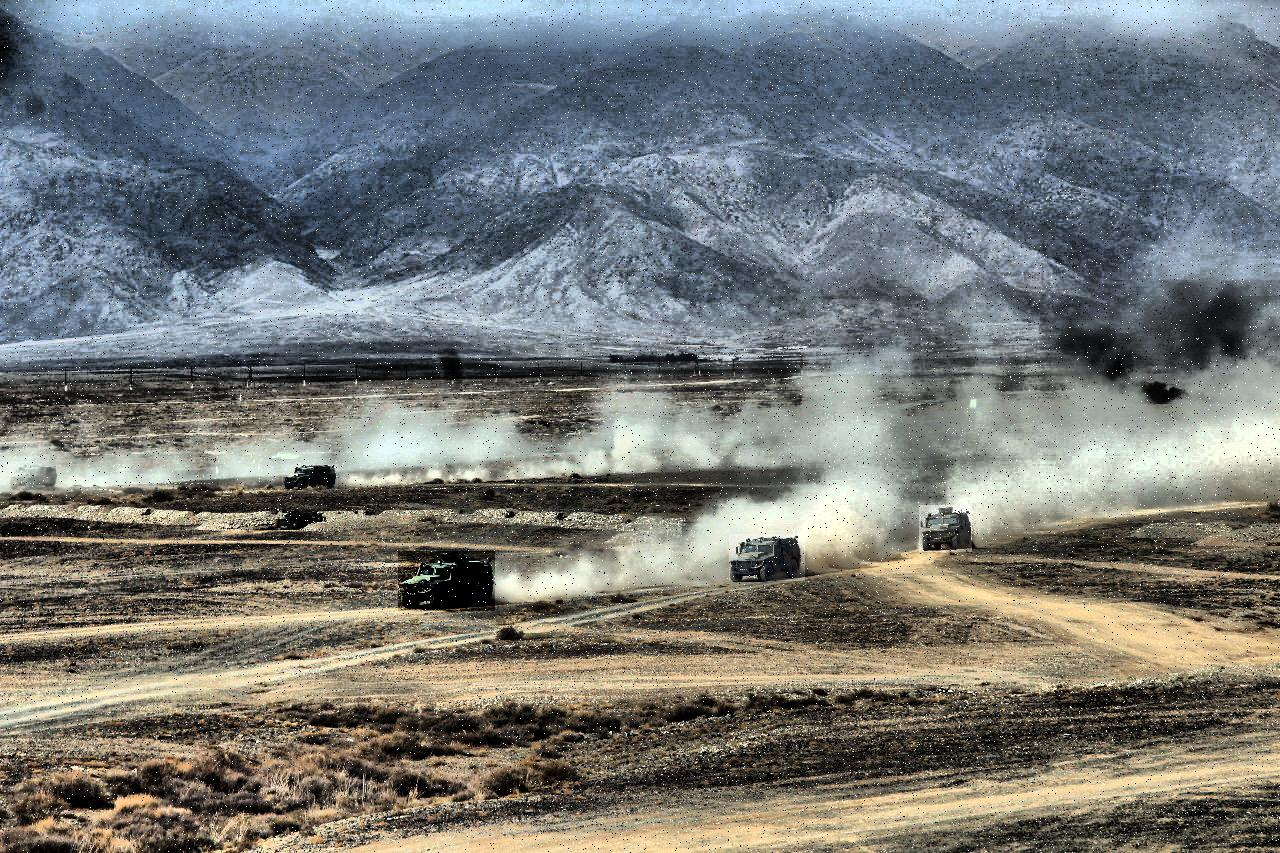military-vehicle: (399, 551, 496, 611), (730, 534, 806, 581), (920, 506, 973, 553), (283, 464, 339, 494)
